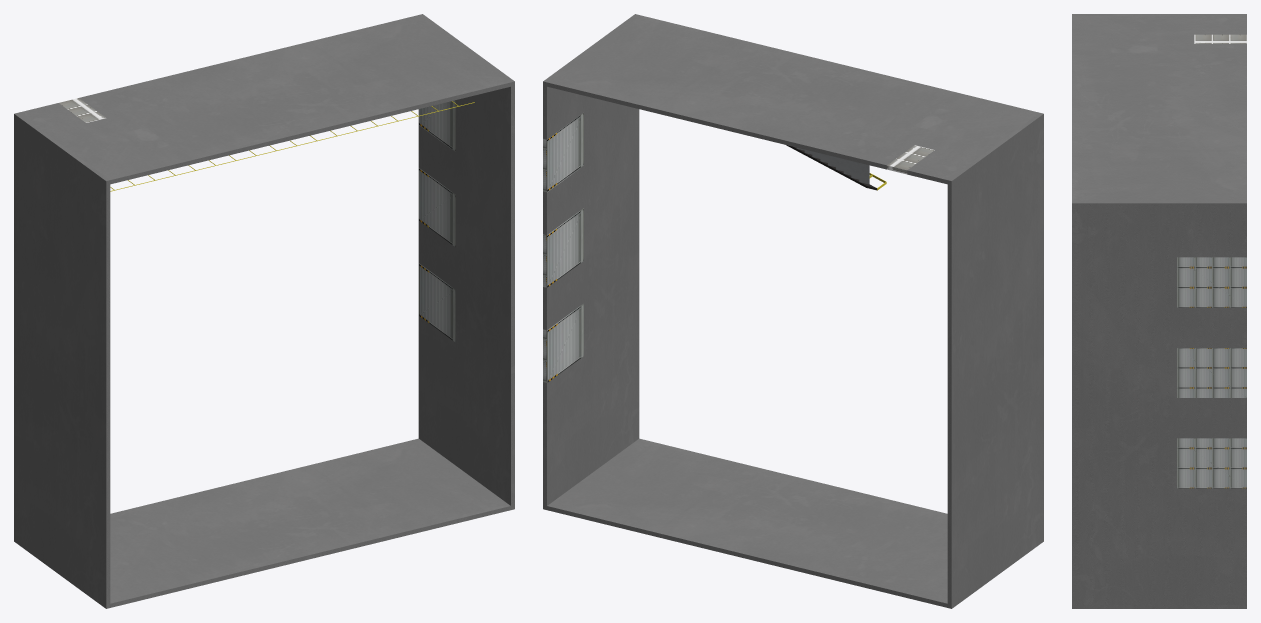
Rendered from walls.glb.
The picture shows the model from 3 angles, left to right: view 1: azimuth 30°, elevation 25°; view 2: azimuth 150°, elevation 25°; view 3: azimuth 270°, elevation 25°; orthographic projection. The views are drawn at different scales.
Visible parts, largest first — view 1: wall_and_stairs.SLDPRT; view 2: wall_and_stairs.SLDPRT; view 3: wall_and_stairs.SLDPRT.
Part boxes in pixels (box(x1,y1,x2,y2)): wall_and_stairs.SLDPRT: box(14, 14, 514, 608); wall_and_stairs.SLDPRT: box(543, 14, 1043, 608); wall_and_stairs.SLDPRT: box(1072, 14, 1246, 608).
Size of the model in its own units: 14.54 by 14.54 by 5.68.
Materials: 7 (5 with a texture image).
